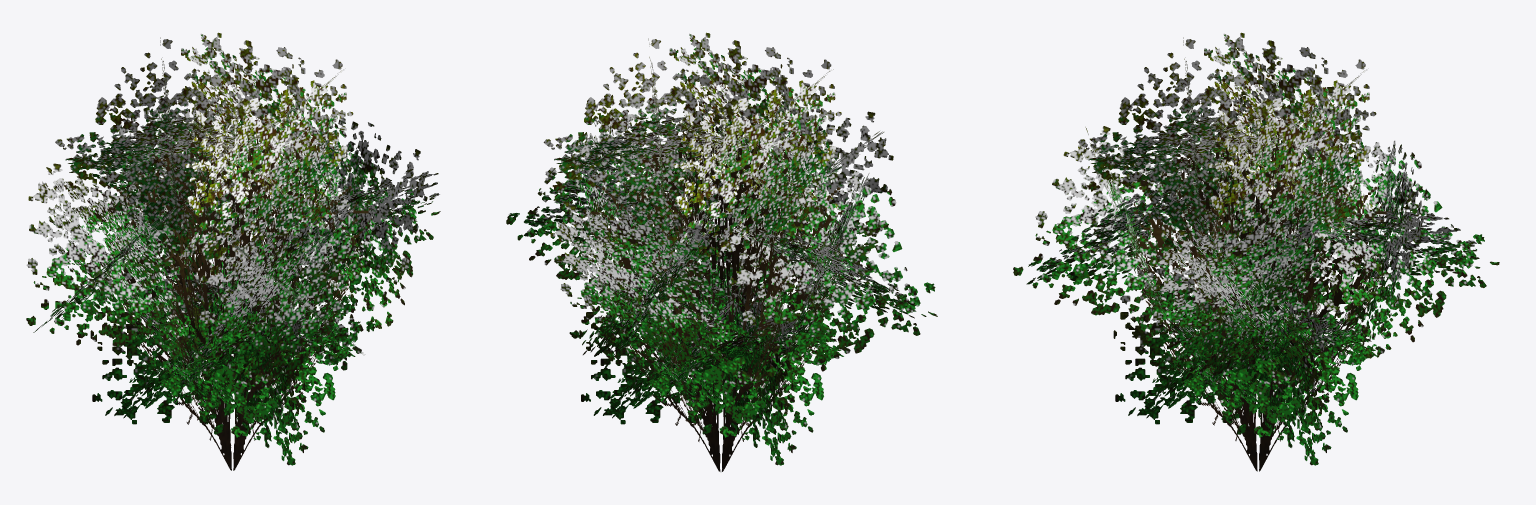
File: meidoorn_2.fbx
3 renders of one model, left to right at view 1: azimuth 30°, elevation 25°; view 2: azimuth 150°, elevation 25°; view 3: azimuth 270°, elevation 25°, orthographic.
Visible parts, largest first — view 1: meidoorn_2; view 2: meidoorn_2; view 3: meidoorn_2.
Part boxes in pixels (<box>): meidoorn_2: <box>26,32,440,470</box>; meidoorn_2: <box>506,32,937,471</box>; meidoorn_2: <box>1013,32,1499,471</box>.
Size of the model in its own units: 1036 by 890 by 1036.
